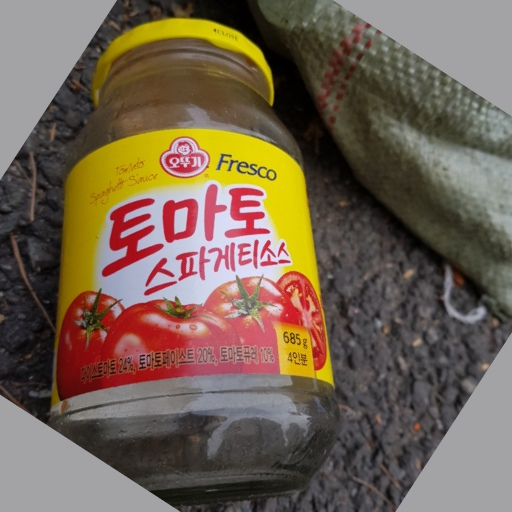Glass_5: (50, 18, 340, 488)
